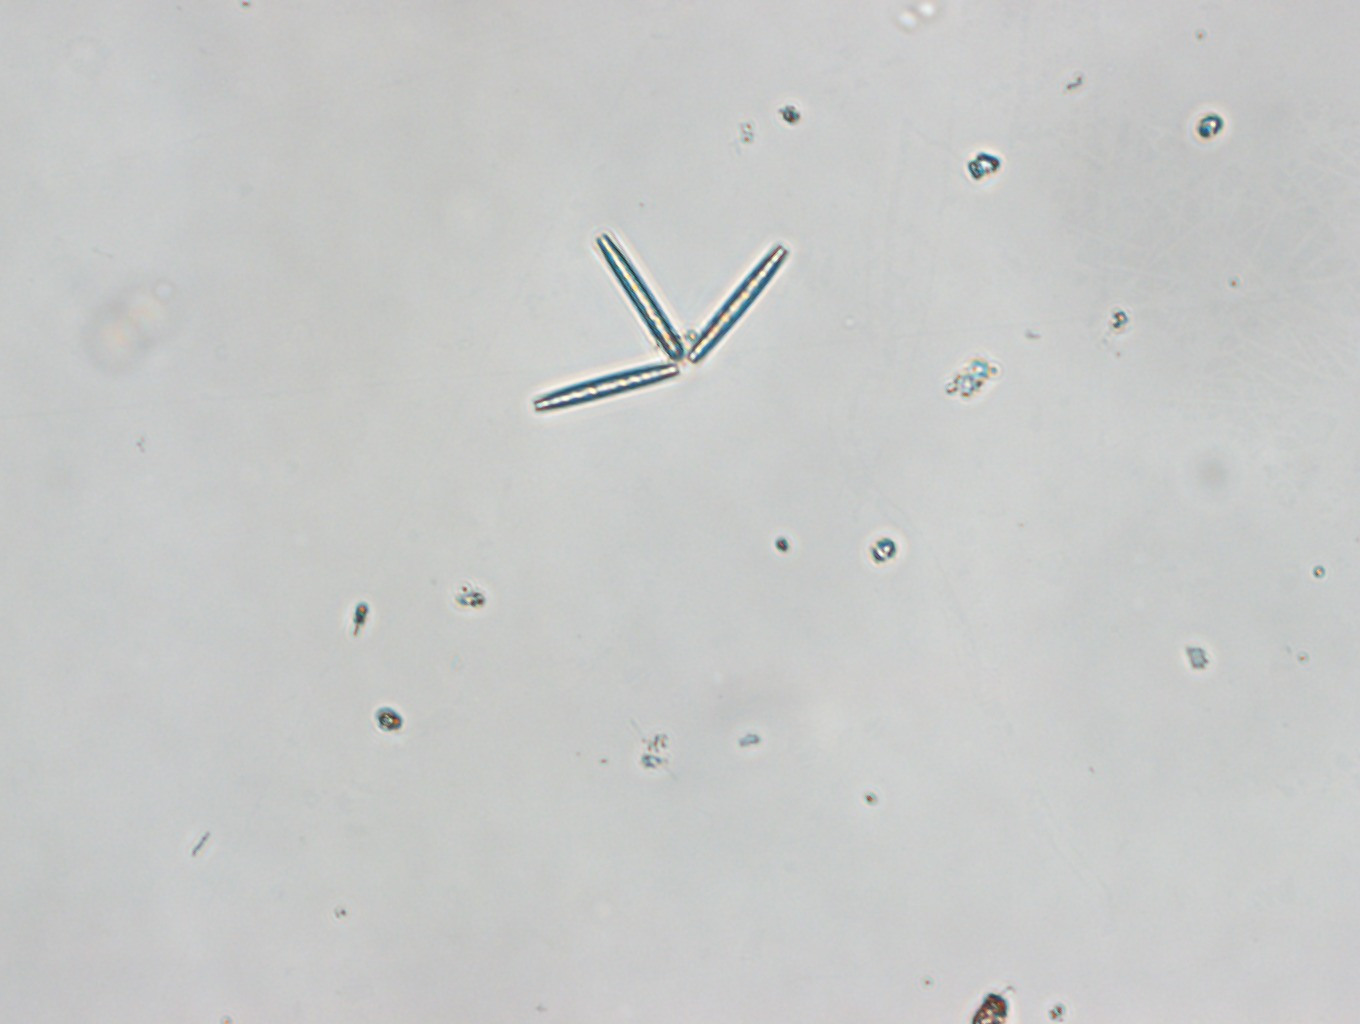thalassionema frauenfeldii: (531, 231, 800, 425)
